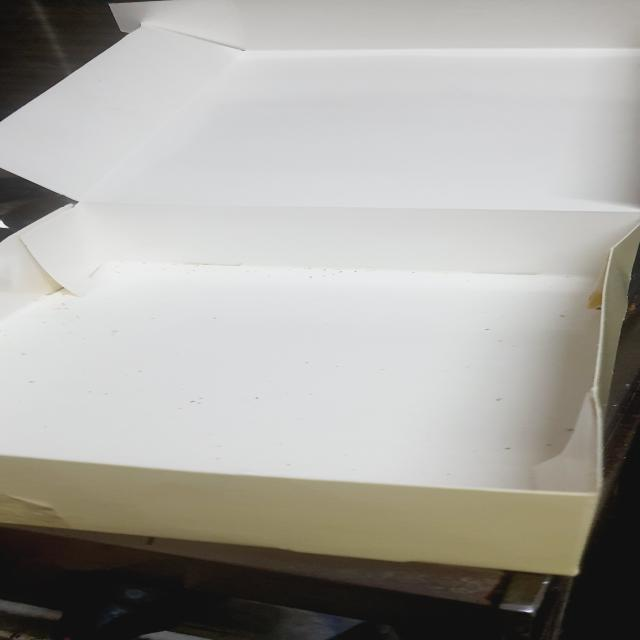cardboard: (2, 1, 638, 592)
